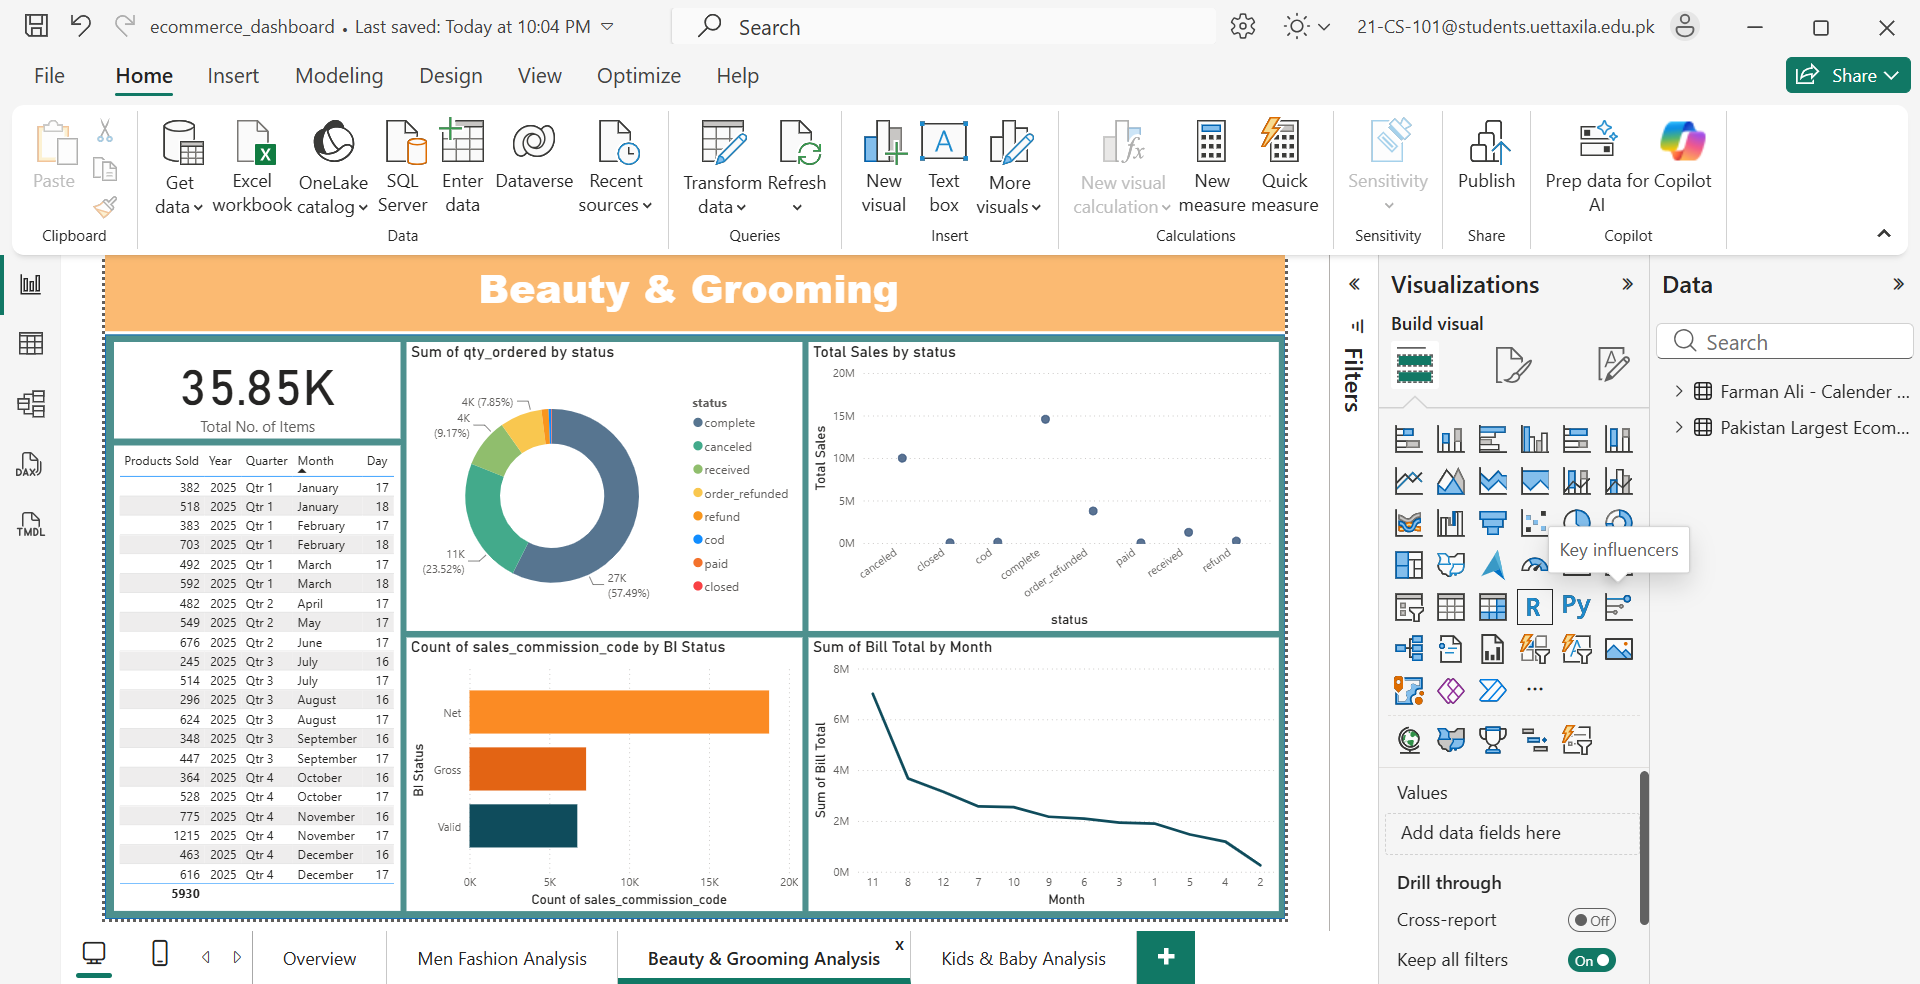

The dashboard page shown, as its layout file describes it:
{"tool":"powerbi","page":{"name":"Beauty & Grooming Analysis","canvas":[1280,720],"ordinal":2},"visuals":[{"type":"shape","box":[0,0,1280.4,82.9],"z":0},{"type":"textbox","box":[399.9,0,479.3,79.3],"z":1000},{"type":"shape","box":[0,86.2,1280,633.8],"z":2000},{"type":"lineChart","fields":{"Category":["Lubna Bhutto - Calender (3).Month"],"Y":["Sum(Pakistan Largest Ecommerce Data (2).Bill Total)"]},"box":[763.3,414.7,510,296.7],"z":3000},{"type":"scatterChart","fields":{"X":["Pakistan Largest Ecommerce Data (2).status"],"Y":["Pakistan Largest Ecommerce Data (2).Total Sales"]},"box":[763.6,94.5,510,313.6],"z":4000},{"type":"clusteredBarChart","fields":{"Category":["Pakistan Largest Ecommerce Data (2).BI Status"],"Y":["CountNonNull(Pakistan Largest Ecommerce Data (2).sales_commission_code)"]},"box":[327.3,414.7,429.3,296.7],"z":5000},{"type":"tableEx","fields":{"Values":["Pakistan Largest Ecommerce Data (2).Products Sold","Lubna Bhutto - Calender (3).Month Year.Variation.Date Hierarchy.Year","Lubna Bhutto - Calender (3).Month Year.Variation.Date Hierarchy.Quarter","Lubna Bhutto - Calender (3).Month Year.Variation.Date Hierarchy.Month","Lubna Bhutto - Calender (3).Month Year.Variation.Date Hierarchy.Day"]},"box":[9.2,206.9,310.8,504.6],"z":6000},{"type":"card","fields":{"Values":["Count(Pakistan Largest Ecommerce Data (2).item_id)"]},"box":[9.1,94.5,310.9,104.5],"z":7000},{"type":"donutChart","fields":{"Category":["Pakistan Largest Ecommerce Data (2).status"],"Y":["Sum(Pakistan Largest Ecommerce Data (2).qty_ordered)"]},"box":[327.3,94.5,429.1,313.6],"z":8000}]}

Visuals, with their boxes on the page's 1280x720 design canvas (x1, y1, x2, y2). These are canvas units, not pixel positions in the 1920x984 screenshot, which may show the page scaled, cropped or inside an application window:
shape: (x1=0, y1=0, x2=1280, y2=83)
textbox: (x1=400, y1=0, x2=879, y2=79)
shape: (x1=0, y1=86, x2=1280, y2=720)
lineChart - Lubna Bhutto - Calender (3).Month x Sum(Pakistan Largest Ecommerce Data (2).Bill Total): (x1=763, y1=415, x2=1273, y2=711)
scatterChart - Pakistan Largest Ecommerce Data (2).status x Pakistan Largest Ecommerce Data (2).Total Sales: (x1=764, y1=94, x2=1274, y2=408)
clusteredBarChart - Pakistan Largest Ecommerce Data (2).BI Status x CountNonNull(Pakistan Largest Ecommerce Data (2).sales_commission_code): (x1=327, y1=415, x2=757, y2=711)
tableEx - Pakistan Largest Ecommerce Data (2).Products Sold x Lubna Bhutto - Calender (3).Month Year.Variation.Date Hierarchy.Year: (x1=9, y1=207, x2=320, y2=712)
card - Count(Pakistan Largest Ecommerce Data (2).item_id): (x1=9, y1=94, x2=320, y2=199)
donutChart - Pakistan Largest Ecommerce Data (2).status x Sum(Pakistan Largest Ecommerce Data (2).qty_ordered): (x1=327, y1=94, x2=756, y2=408)
